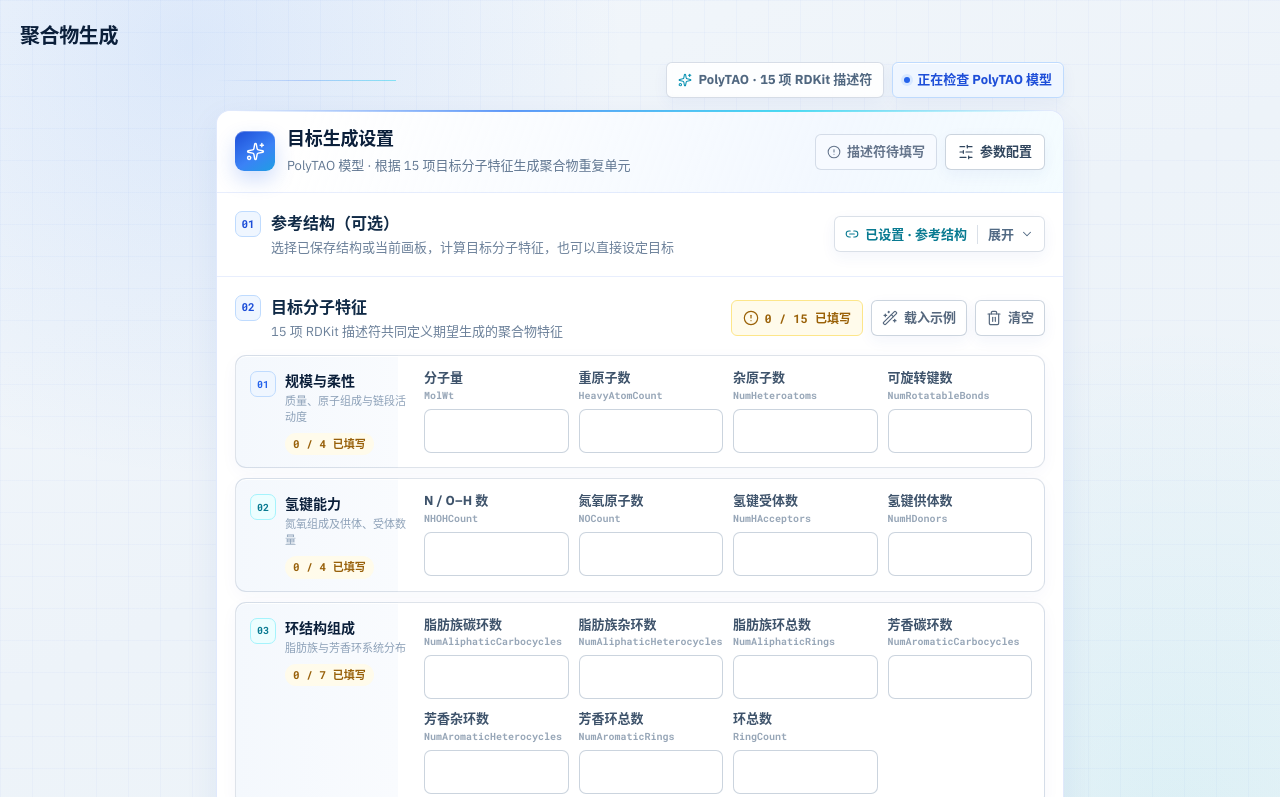
Test: PolytaoGenerationPage › marks a structure-derived vector as manually adjusted after any descriptor edit
Click the button "已设置 · 参考结构 展开" at x=940, y=234, box x1=834 y1=216 x2=1045 y2=252
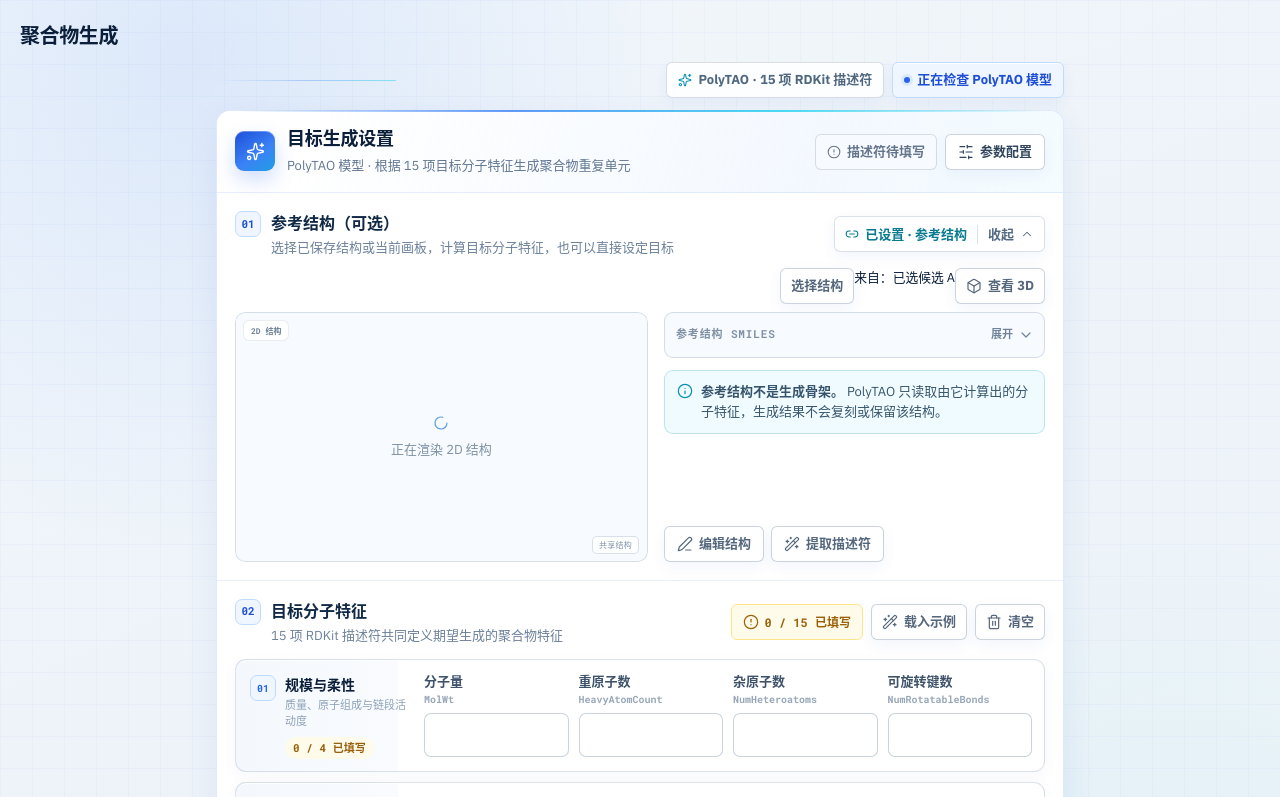
Click the button "提取描述符" at x=827, y=544, box x1=771 y1=526 x2=884 y2=562
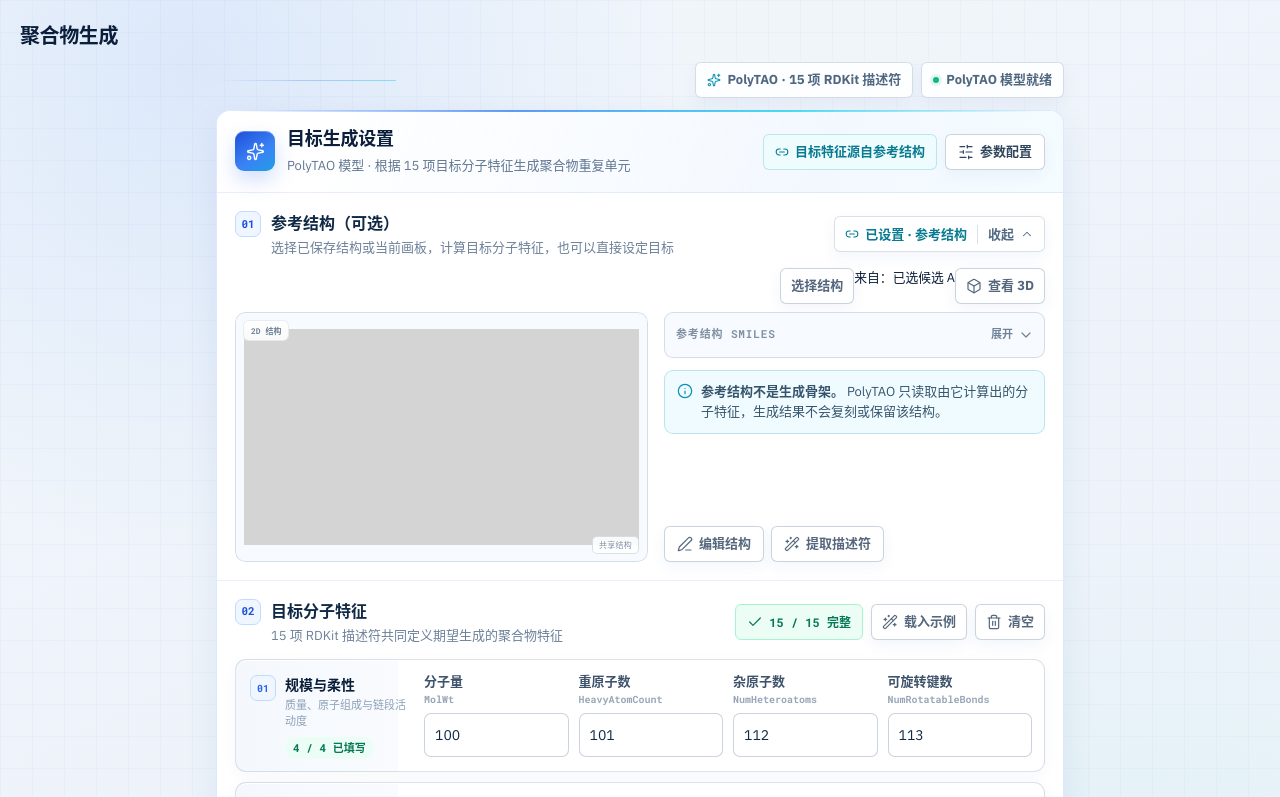
Result: the text "目标特征源自参考结构" is shown at x1=795 y1=142 x2=925 y2=161
Replace the text in the number field labelled "重原子数 HeavyAtomCount" with "119" at x=651, y=734, box x1=578 y1=712 x2=723 y2=756
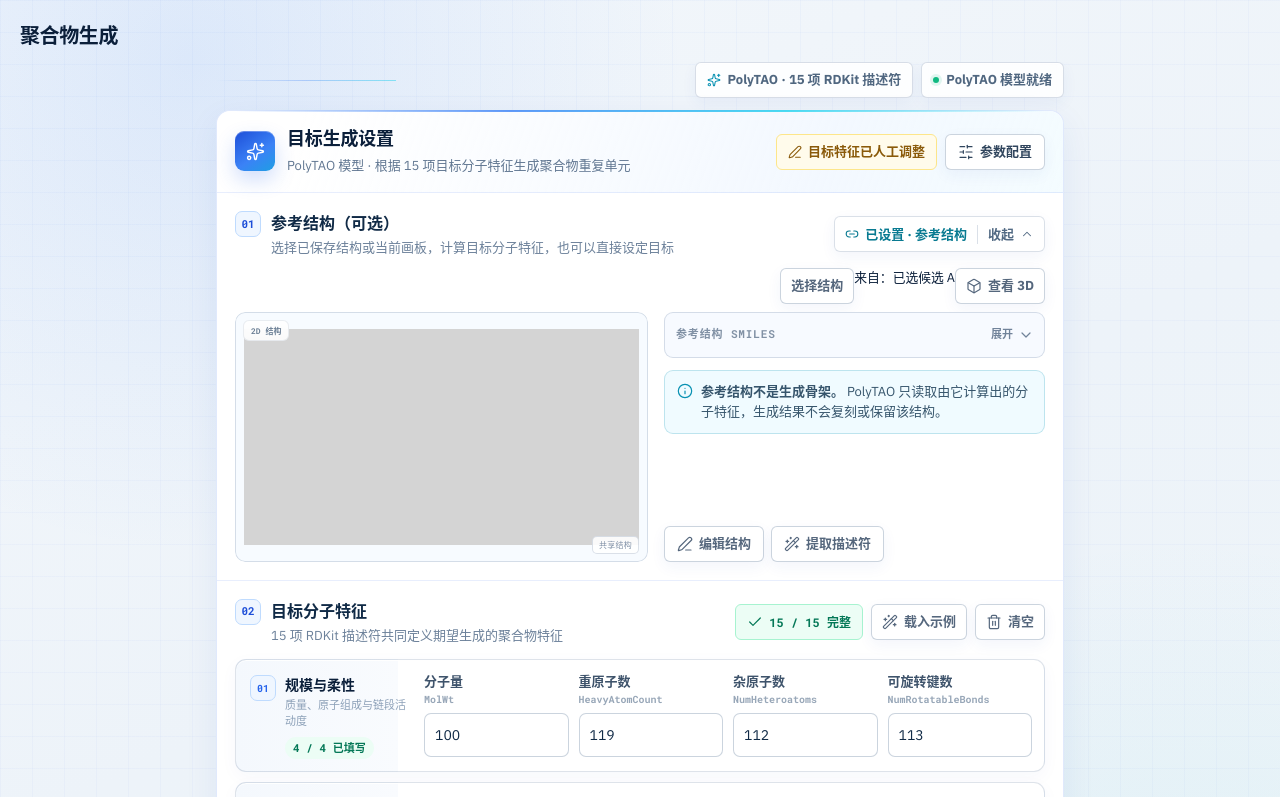
Result: the text "目标特征已人工调整" is shown at x1=808 y1=142 x2=925 y2=161
